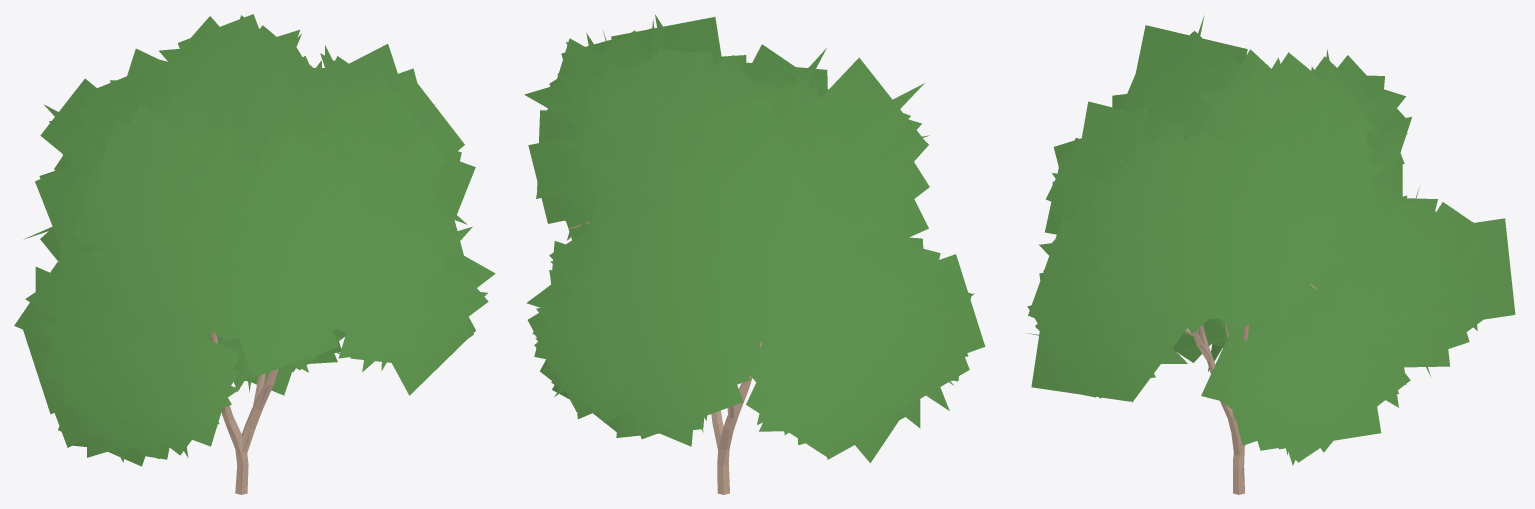
The model's file is oak-2.glb.
3 renders of one model, left to right at view 1: azimuth 30°, elevation 25°; view 2: azimuth 150°, elevation 25°; view 3: azimuth 270°, elevation 25°, orthographic. The views are drawn at different scales.
Parts seen in each view (by area): view 1: Node; view 2: Node; view 3: Node.
Boxes of the visible parts, left/top/right/bottom form: Node: left=14, top=14, right=495, bottom=494; Node: left=524, top=14, right=985, bottom=494; Node: left=1027, top=15, right=1515, bottom=494.
Bounding box in the file's own units: 11.93 × 12 × 12.42.
